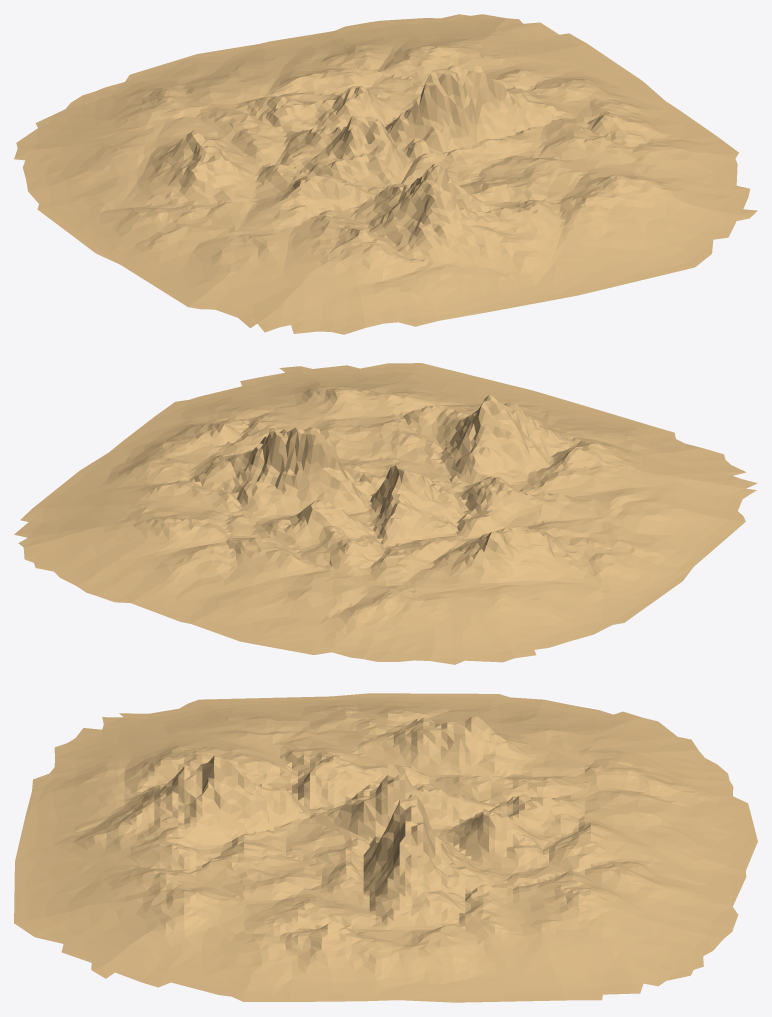
File: MT_Island_L_f_06.fbx
3 views of the same model, one above another, from view 1: azimuth 30°, elevation 25°; view 2: azimuth 150°, elevation 25°; view 3: azimuth 270°, elevation 25° (orthographic). The views are drawn at different scales.
Visible parts, largest first — view 1: MT_Island_L_f_06; view 2: MT_Island_L_f_06; view 3: MT_Island_L_f_06.
Part boxes in pixels (x1,y1,x2,y2): MT_Island_L_f_06: [14, 14, 757, 334]; MT_Island_L_f_06: [14, 363, 757, 664]; MT_Island_L_f_06: [14, 693, 757, 1002].
Bounding box in the file's own units: 19329 × 2525 × 19600.
